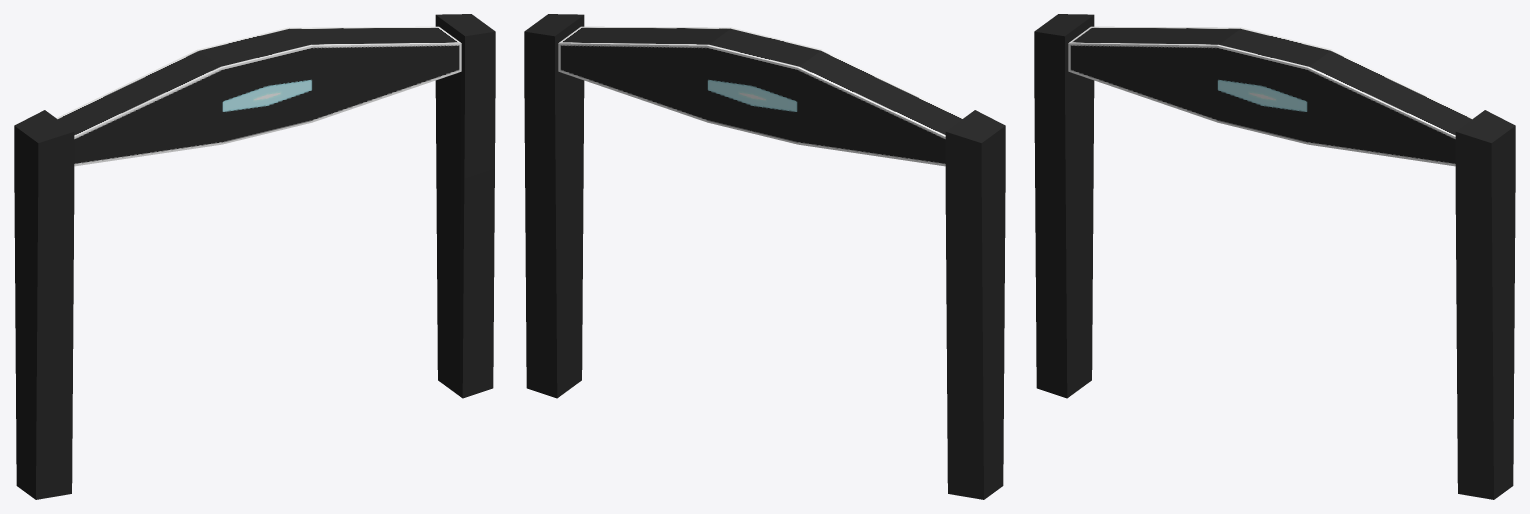
File: door.obj
3 renders of one model, left to right at view 1: azimuth 30°, elevation 25°; view 2: azimuth 150°, elevation 25°; view 3: azimuth 330°, elevation 25°, orthographic.
Parts seen in each view (by area): view 1: 立方体_立方体.002; view 2: 立方体_立方体.002; view 3: 立方体_立方体.002.
Part boxes in pixels (bbox=[...]): 立方体_立方体.002: bbox=[14, 14, 495, 499]; 立方体_立方体.002: bbox=[524, 14, 1005, 499]; 立方体_立方体.002: bbox=[1034, 14, 1515, 499].
Size of the model in its own units: 2 by 1.63 by 0.2244.
Materials: 1 (1 with a texture image).
